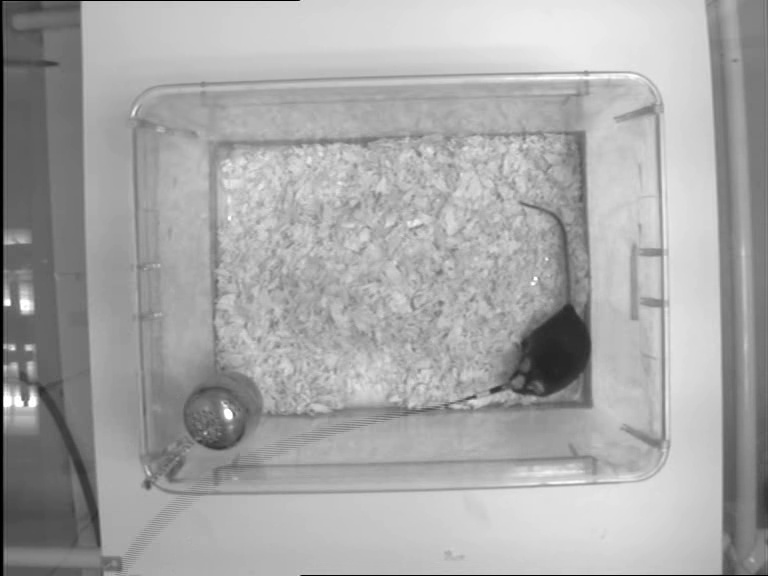mice: (505, 195, 594, 401)
